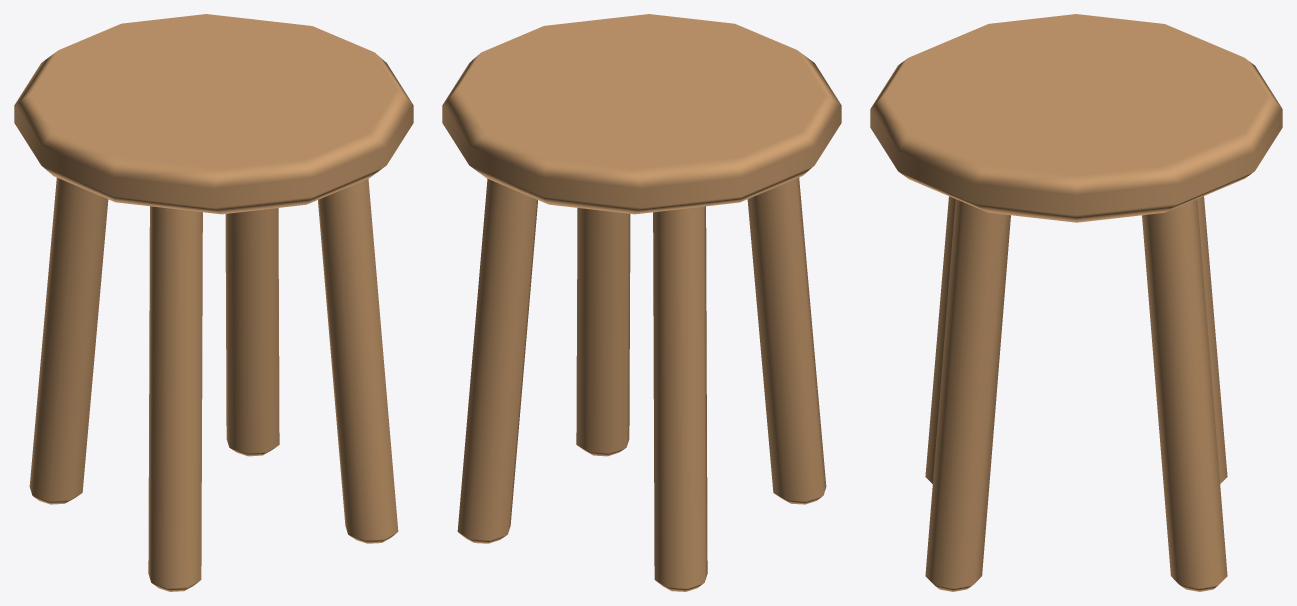
Rendered from MD_CozyShops_SideTable.fbx.
3 renders of one model, left to right at view 1: azimuth 30°, elevation 25°; view 2: azimuth 150°, elevation 25°; view 3: azimuth 270°, elevation 25°, orthographic. The views are drawn at different scales.
Visible parts, largest first — view 1: SM_CozyShops_SideTable; view 2: SM_CozyShops_SideTable; view 3: SM_CozyShops_SideTable.
Part boxes in pixels (left/top/right/bottom): SM_CozyShops_SideTable: left=14, top=14, right=413, bottom=591; SM_CozyShops_SideTable: left=442, top=14, right=841, bottom=591; SM_CozyShops_SideTable: left=870, top=14, right=1282, bottom=591.
Size of the model in its own units: 0.4 by 0.47 by 0.4.
